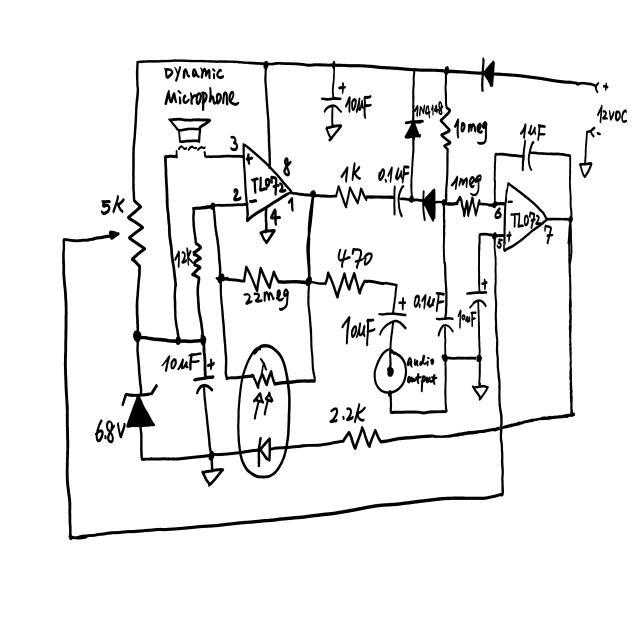capacitor: (376, 296, 408, 336), (191, 359, 217, 395), (320, 80, 346, 116), (465, 278, 489, 311), (519, 138, 536, 173), (390, 184, 405, 219), (434, 315, 456, 337)
crossover: (498, 424, 504, 432)
diode: (119, 383, 159, 430), (479, 57, 496, 92), (421, 187, 436, 222), (403, 118, 425, 140)
ground: (200, 466, 225, 488), (471, 382, 490, 401), (324, 124, 342, 143), (578, 160, 593, 178), (259, 228, 275, 243)
junction: (132, 327, 143, 344), (215, 271, 227, 286), (59, 233, 70, 248), (303, 274, 313, 288), (173, 335, 183, 346), (198, 334, 207, 346), (207, 449, 216, 461), (308, 188, 317, 200), (476, 229, 485, 240), (209, 200, 217, 212), (498, 488, 506, 500), (441, 197, 449, 208), (442, 65, 450, 76), (67, 532, 75, 543), (310, 375, 318, 385), (392, 280, 400, 290), (567, 214, 575, 224), (387, 407, 395, 417), (441, 353, 449, 363), (475, 353, 483, 363), (223, 372, 230, 383), (330, 60, 337, 70), (139, 453, 146, 463), (442, 406, 449, 416), (190, 204, 197, 213), (262, 60, 269, 69), (411, 66, 418, 74), (493, 150, 499, 159), (408, 194, 414, 203), (492, 200, 498, 209), (135, 58, 141, 66), (567, 152, 573, 160), (570, 410, 576, 418), (492, 231, 497, 240), (162, 153, 167, 162), (586, 130, 589, 134)
resistor: (107, 197, 147, 267), (322, 270, 367, 300), (338, 426, 385, 453), (239, 263, 282, 291), (333, 183, 369, 209), (455, 194, 483, 219), (438, 109, 453, 153), (190, 240, 203, 283)
terminal: (373, 347, 408, 397), (594, 81, 600, 94), (590, 127, 596, 138)
text: (164, 85, 241, 112), (242, 287, 290, 312), (340, 314, 375, 348), (164, 65, 226, 83), (453, 118, 488, 146), (327, 401, 367, 425), (335, 246, 373, 270), (160, 352, 202, 373), (93, 418, 125, 445), (250, 175, 288, 197), (449, 173, 483, 197), (344, 93, 373, 119), (412, 291, 445, 313), (377, 163, 409, 185), (406, 372, 438, 393), (596, 104, 628, 124), (510, 211, 542, 230), (100, 193, 125, 217), (519, 121, 547, 141), (414, 100, 444, 118), (340, 161, 362, 184), (457, 309, 477, 331), (406, 354, 435, 369), (174, 247, 193, 268), (269, 208, 282, 226), (543, 224, 554, 245), (282, 156, 292, 177), (229, 134, 239, 152), (232, 187, 242, 202), (493, 206, 503, 220), (287, 196, 295, 213), (497, 238, 503, 250), (602, 82, 609, 91), (596, 131, 602, 136)
